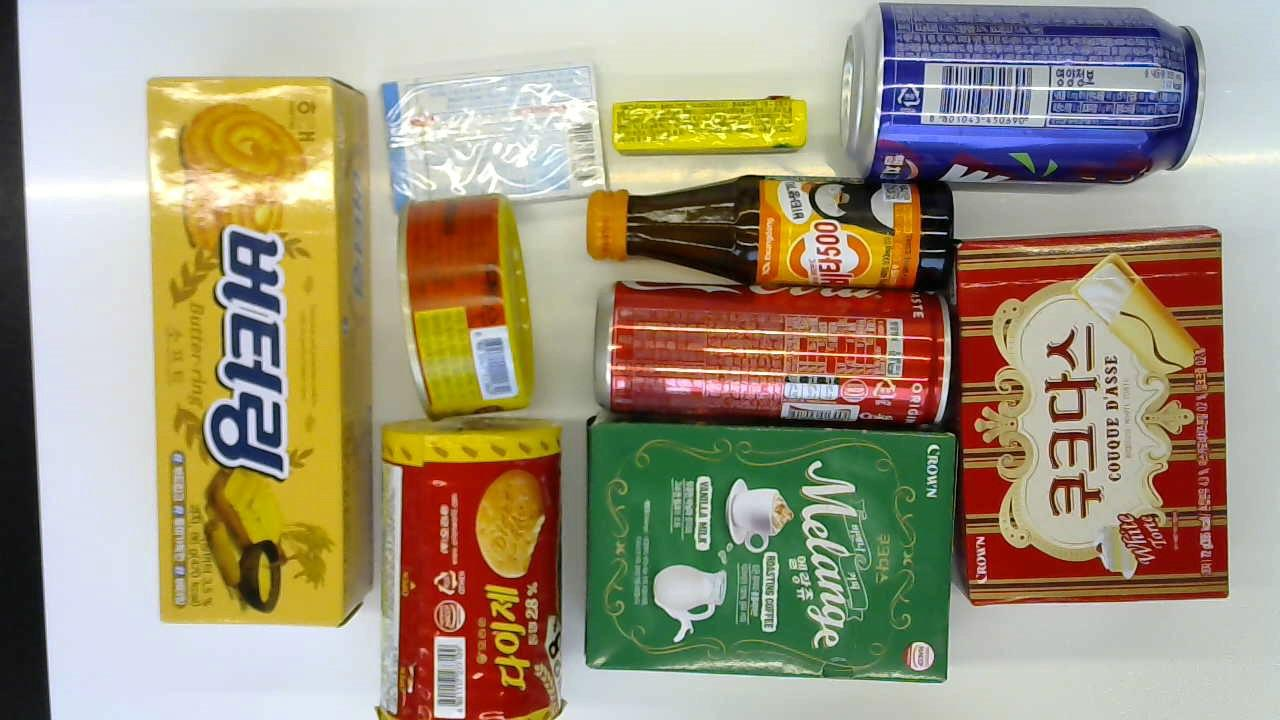ID_gum: (379, 66, 608, 215)
buttering: (142, 76, 374, 623)
coke: (592, 285, 951, 420)
couque_white: (951, 225, 1233, 603), (584, 413, 964, 681)
diget_ori: (378, 420, 563, 720)
juicyfresh: (616, 98, 808, 152)
tuna: (396, 196, 538, 420)
vita500: (584, 175, 953, 280)
welchs: (833, 3, 1202, 178)
